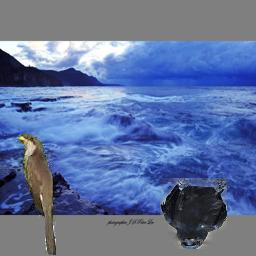Crow: (161, 179, 228, 250)
Cuckoo: (18, 135, 57, 256)
